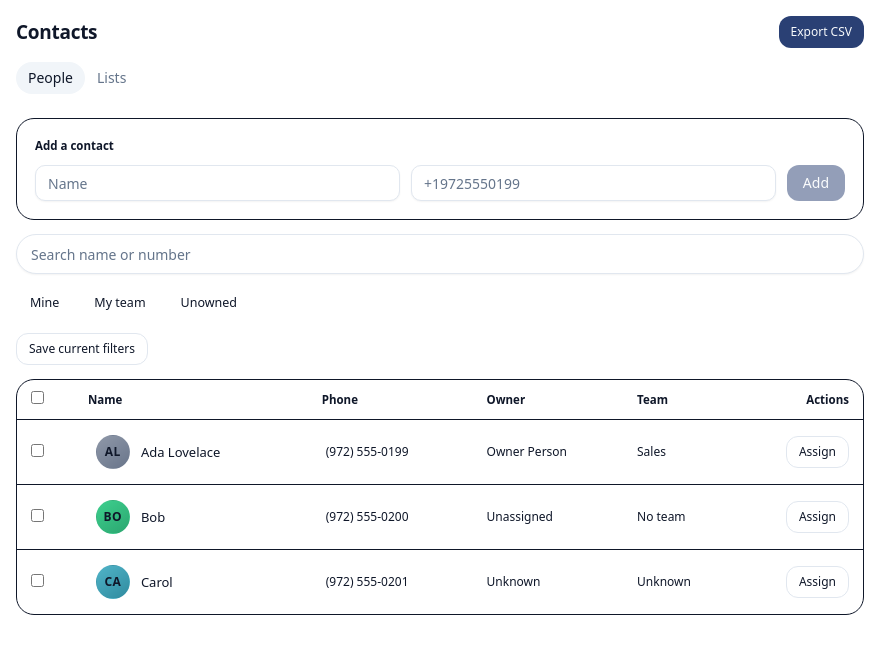
Scenario: ContactsPage › adds a contact and shows a success confirmation
Expected: the button "AL Ada Lovelace" is shown, [88,431,228,473]
Type "Dave" into the field named "Contact name".
click(217, 183); type("Dave")  # box [35,165,400,201]
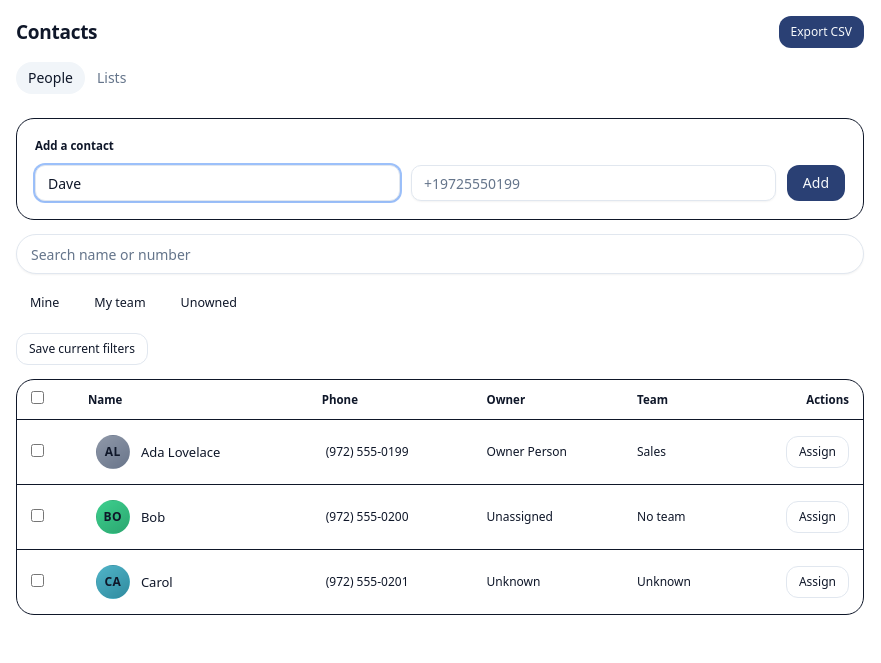
Click the button "Add".
click(816, 183)  # box [787,165,845,201]
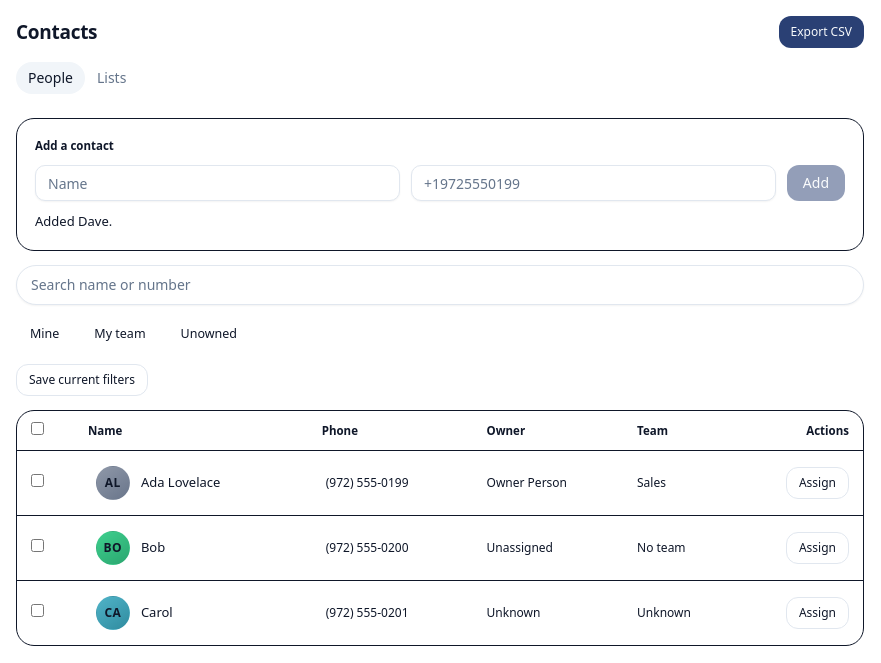
Expected: the text "Added Dave." is shown, [35,212,112,230]
